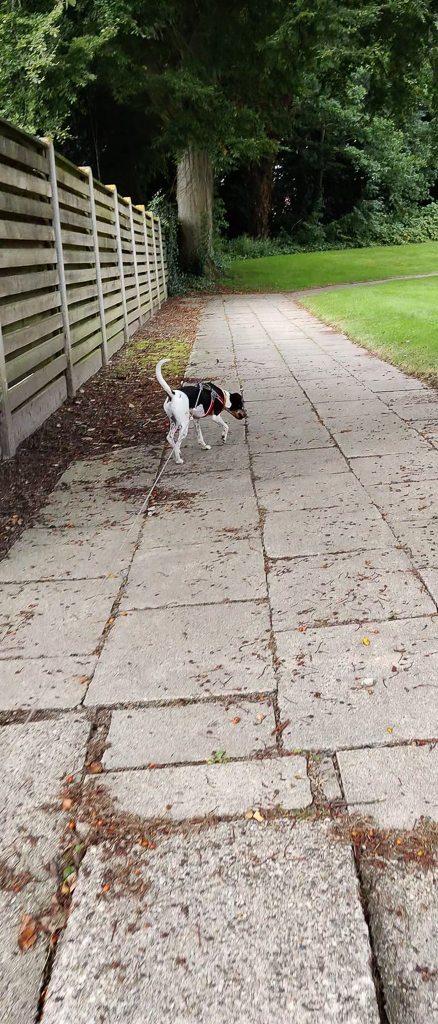Dog: (152, 353, 252, 471)
